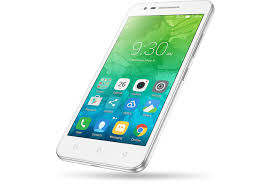lenovo: (54, 1, 218, 177)
